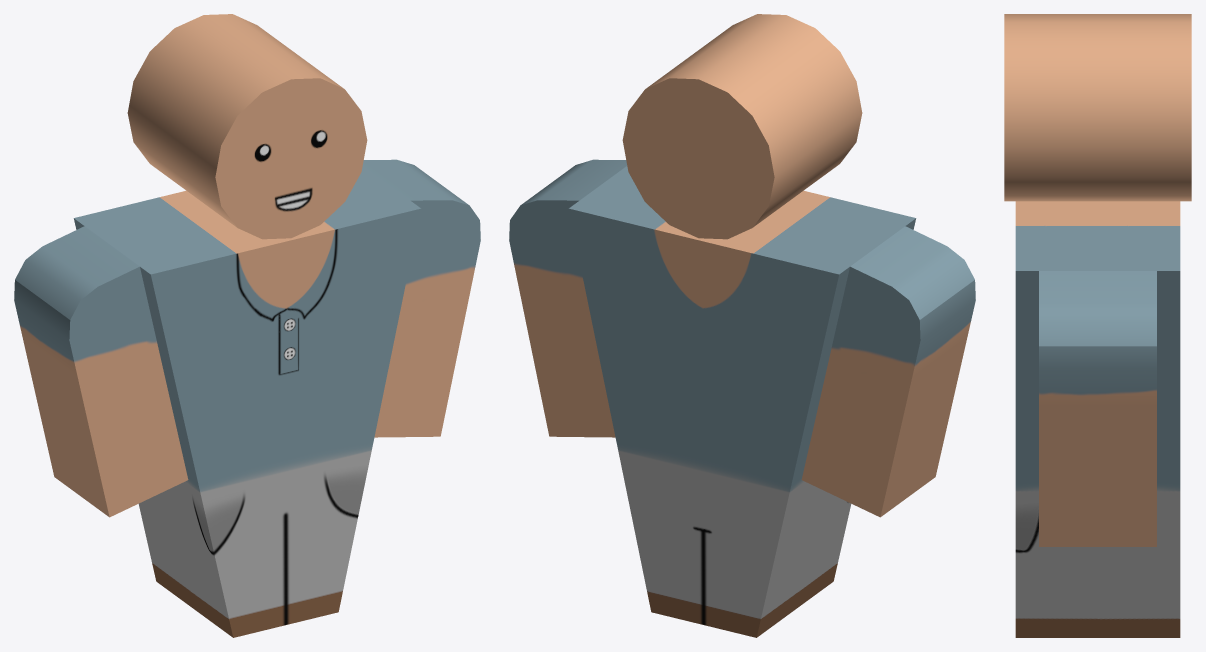
File: sm_Fred_GEO.fbx
3 renders of one model, left to right at view 1: azimuth 30°, elevation 25°; view 2: azimuth 150°, elevation 25°; view 3: azimuth 270°, elevation 25°, orthographic. The views are drawn at different scales.
Visible parts, largest first — view 1: body_GEO, head_GEO, arm_R_GEO1, arm_R_GEO; view 2: body_GEO, head_GEO, arm_R_GEO1, arm_R_GEO; view 3: body_GEO, head_GEO, arm_R_GEO.
Part boxes in pixels (x1,y1,x2,y2): body_GEO: (73,166,421,637); head_GEO: (127,14,367,239); arm_R_GEO1: (14,226,188,517); arm_R_GEO: (362,159,480,437); body_GEO: (568,166,916,637); head_GEO: (622,14,862,239); arm_R_GEO1: (801,226,975,517); arm_R_GEO: (509,159,627,437); body_GEO: (1015,201,1180,637); head_GEO: (1004,14,1191,201); arm_R_GEO: (1039,271,1156,546).
Bounding box in the file's own units: 2.97 × 3.79 × 1.1.
Materials: 1 (1 with a texture image).
